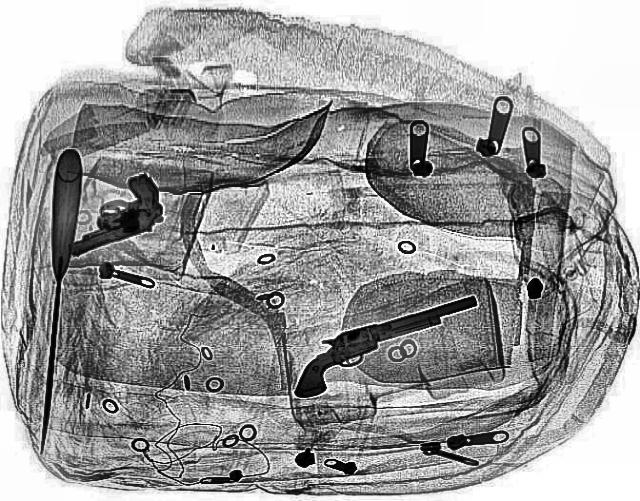Gun: (271, 295, 501, 399)
Knife: (24, 146, 84, 453), (39, 171, 181, 259)
